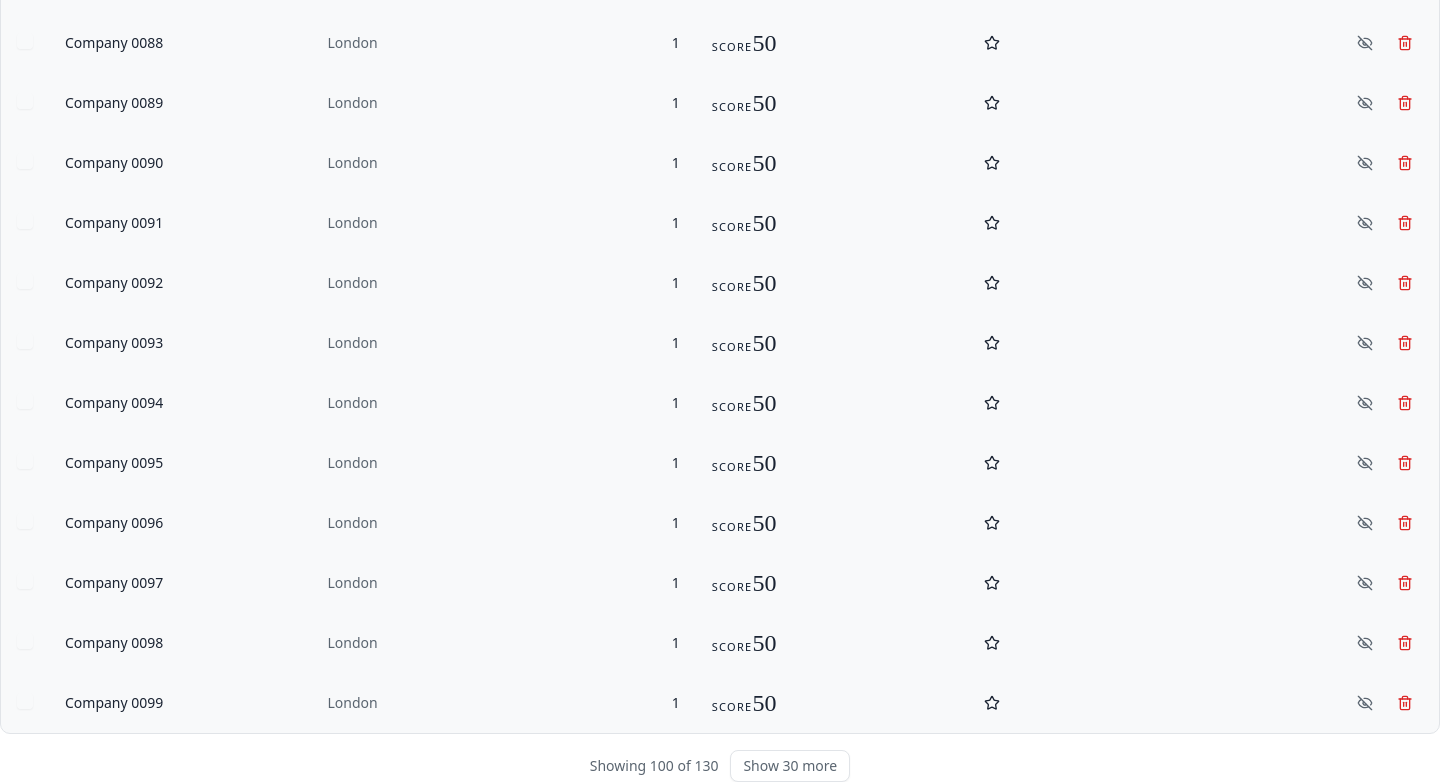
CompaniesTable › shows more on request, until every company is on screen
(page scrolled)
Click the button "Show 30 more": click(790, 766) [730, 750, 850, 781]
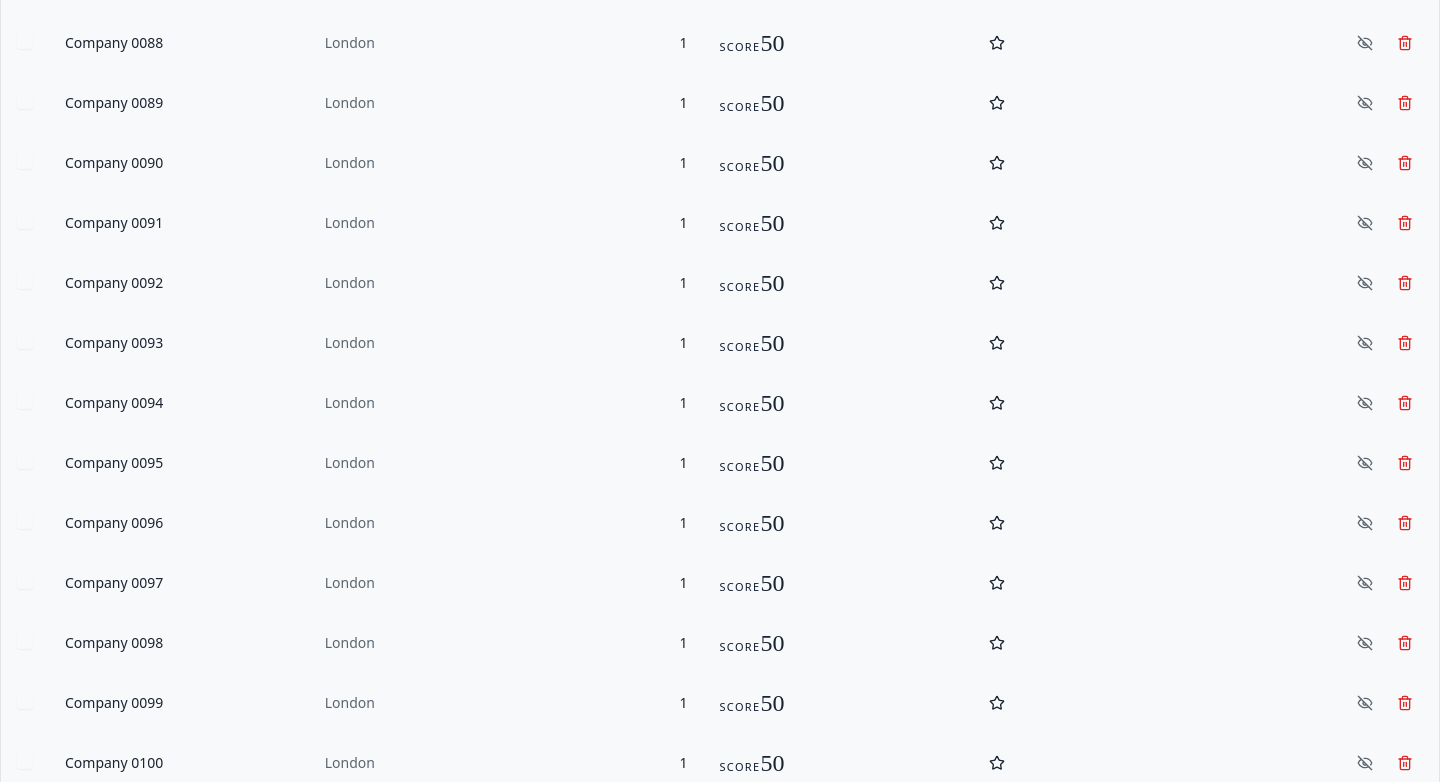
Expected: the text "Showing " is gone
